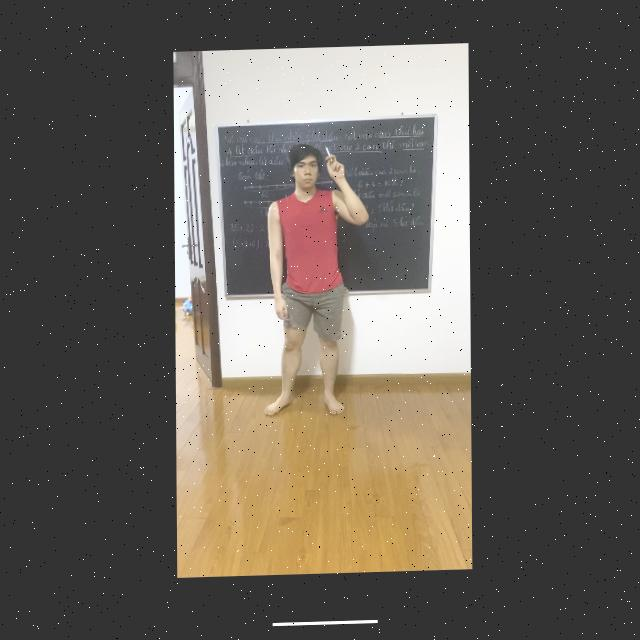cigarette: (324, 149, 331, 163)
